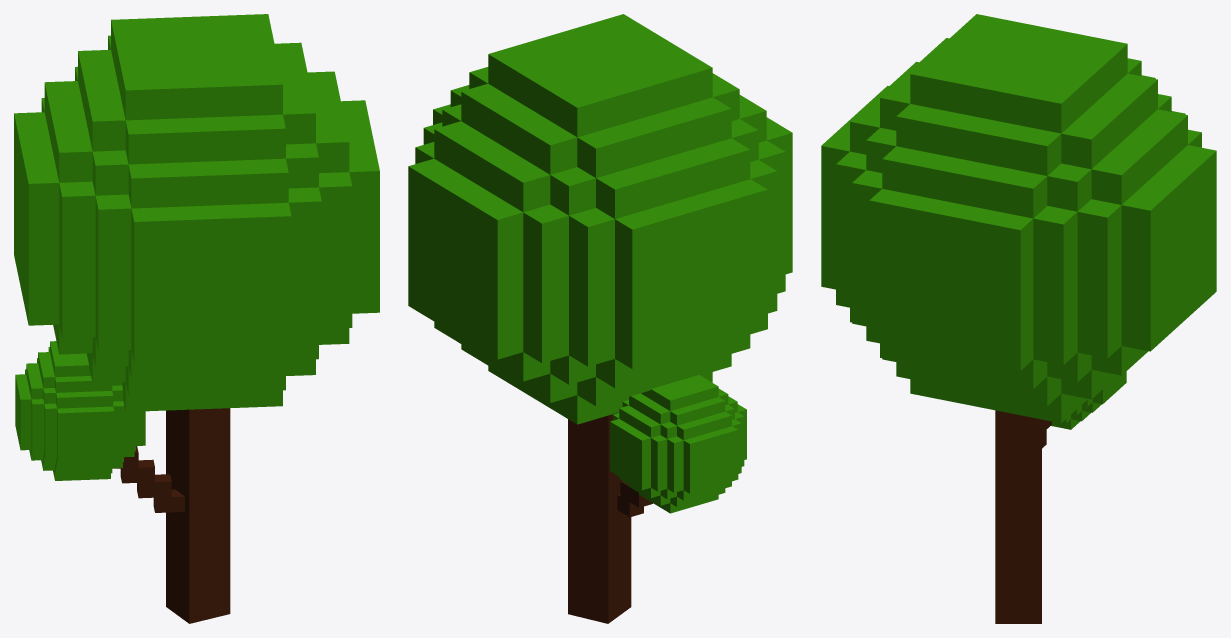
The model's file is Tree_002.FBX.
The picture shows the model from 3 angles, left to right: view 1: azimuth 30°, elevation 25°; view 2: azimuth 150°, elevation 25°; view 3: azimuth 270°, elevation 25°; orthographic projection.
Visible parts, largest first — view 1: train_main_part_003, Box047, train_main_part_006, Box049; view 2: train_main_part_003, train_main_part_006, Box047, Box049; view 3: train_main_part_003, Box047, train_main_part_006.
Part boxes in pixels (x1=…): train_main_part_003: x1=14, y1=14, x2=379, y2=411; Box047: x1=166, y1=408, x2=230, y2=623; train_main_part_006: x1=15, y1=341, x2=145, y2=480; Box049: x1=112, y1=446, x2=184, y2=512; train_main_part_003: x1=408, y1=14, x2=792, y2=424; train_main_part_006: x1=610, y1=375, x2=746, y2=513; Box047: x1=568, y1=413, x2=631, y2=623; Box049: x1=617, y1=481, x2=652, y2=517; train_main_part_003: x1=821, y1=14, x2=1216, y2=423; Box047: x1=995, y1=410, x2=1041, y2=623; train_main_part_006: x1=1051, y1=371, x2=1126, y2=429.
Bounding box in the file's own units: 60.78 × 95.87 × 61.97.
